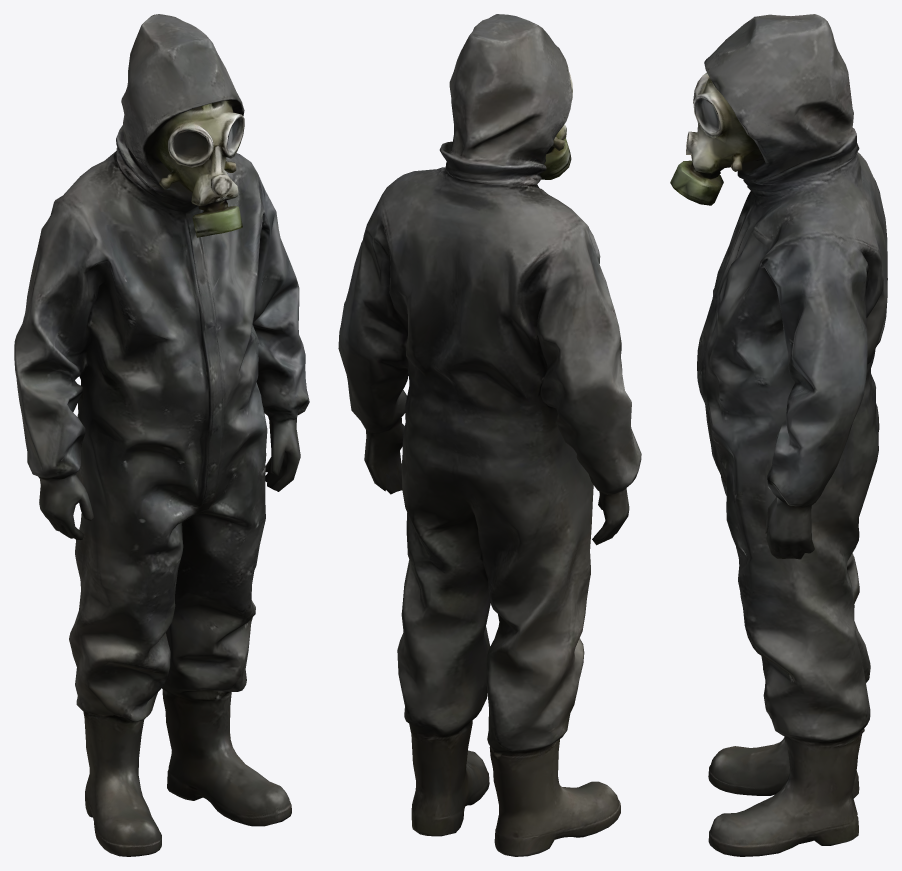
File: figure.glb
The picture shows the model from 3 angles, left to right: view 1: azimuth 30°, elevation 25°; view 2: azimuth 150°, elevation 25°; view 3: azimuth 270°, elevation 25°; orthographic projection.
Parts seen in each view (by area): view 1: tripo_node_8e561b97-3c27-493c-b3fb-450450d52652; view 2: tripo_node_8e561b97-3c27-493c-b3fb-450450d52652; view 3: tripo_node_8e561b97-3c27-493c-b3fb-450450d52652.
Boxes of the visible parts, bbox=[...] form: tripo_node_8e561b97-3c27-493c-b3fb-450450d52652: bbox=[14, 14, 309, 856]; tripo_node_8e561b97-3c27-493c-b3fb-450450d52652: bbox=[338, 14, 641, 856]; tripo_node_8e561b97-3c27-493c-b3fb-450450d52652: bbox=[670, 14, 887, 856].
Size of the model in its own units: 0.3736 by 1 by 0.2481.
Materials: 1 (1 with a texture image).
